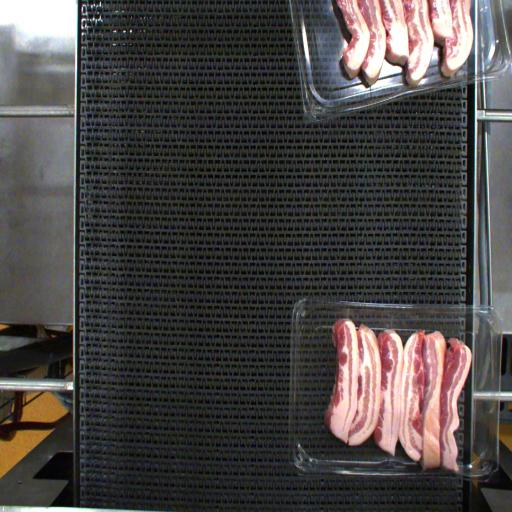packaging-error: (340, 301, 360, 332)
twisted-meat: (422, 325, 448, 475)
